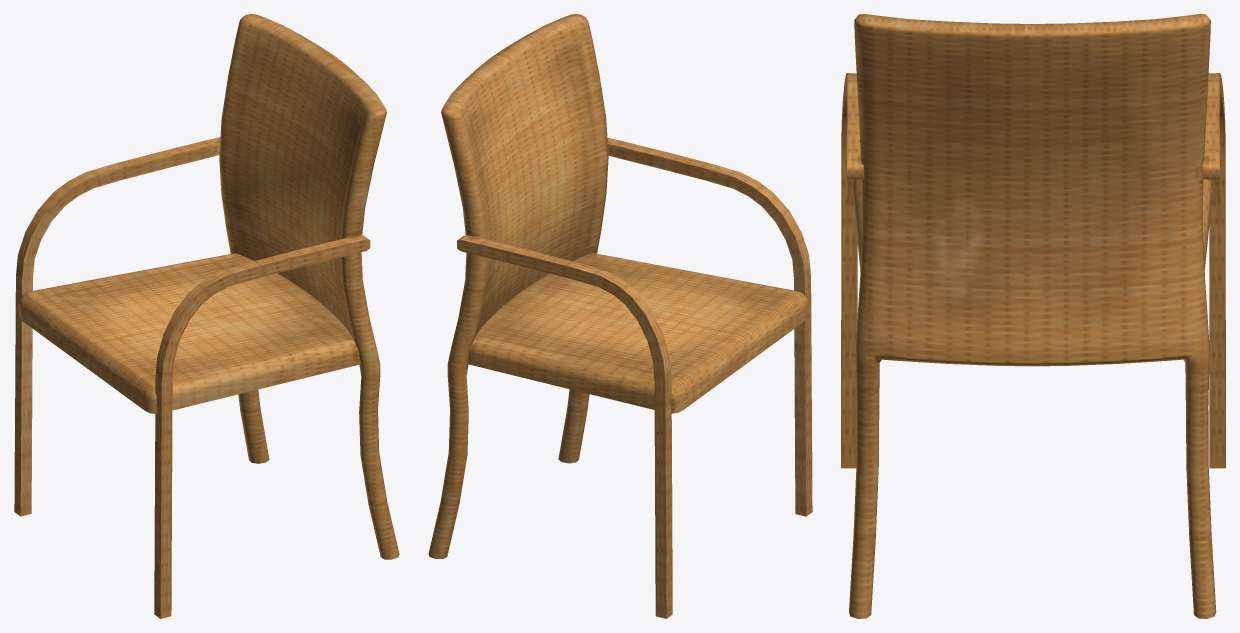
File: MB_Cafe_Chair_03.fbx
3 renders of one model, left to right at view 1: azimuth 30°, elevation 25°; view 2: azimuth 150°, elevation 25°; view 3: azimuth 270°, elevation 25°, orthographic. The views are drawn at different scales.
Parts seen in each view (by area): view 1: MB_Cafe_Chair_03_LOD0; view 2: MB_Cafe_Chair_03_LOD0; view 3: MB_Cafe_Chair_03_LOD0.
Boxes of the visible parts, x1,y1,x2,y2 form: MB_Cafe_Chair_03_LOD0: (14, 14, 399, 618); MB_Cafe_Chair_03_LOD0: (428, 14, 812, 618); MB_Cafe_Chair_03_LOD0: (841, 14, 1225, 618).
Size of what is drawn, in the model's own units: 57.71 by 96.58 by 57.08.
